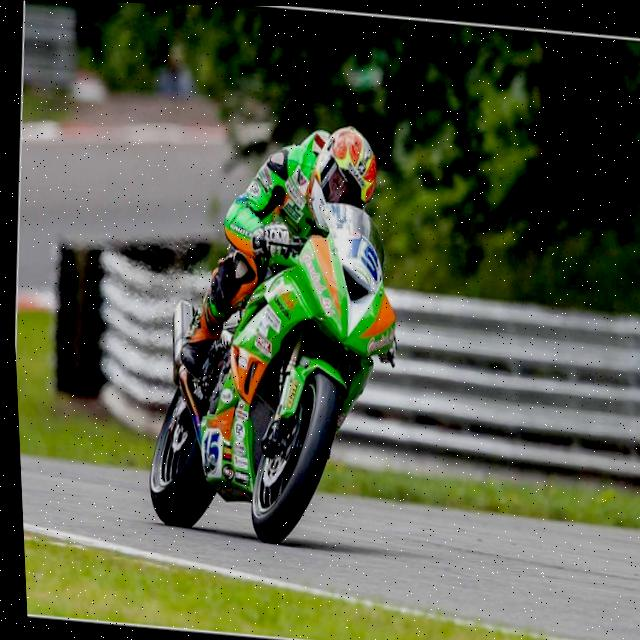motorcycle: (115, 164, 438, 562)
